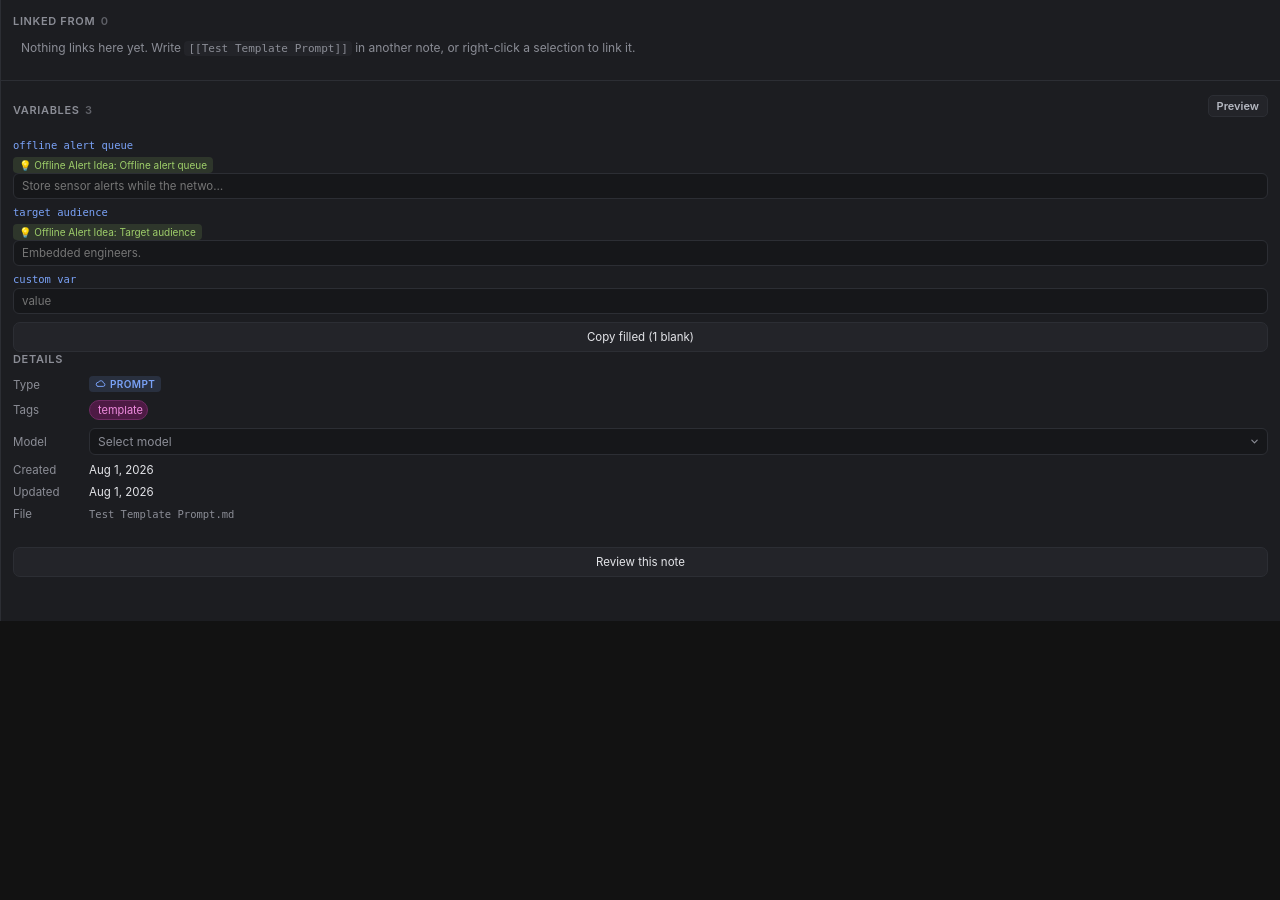
Test: RightPanel Prompt Template Variables & Idea Bubbles Autocompletion › toggles preview substitution displaying filled prompt text
What coordinates should you click on to do the following:
click the button "Preview"
I would click on:
 (1238, 106)
Its box is x1=1208 y1=95 x2=1268 y2=117.
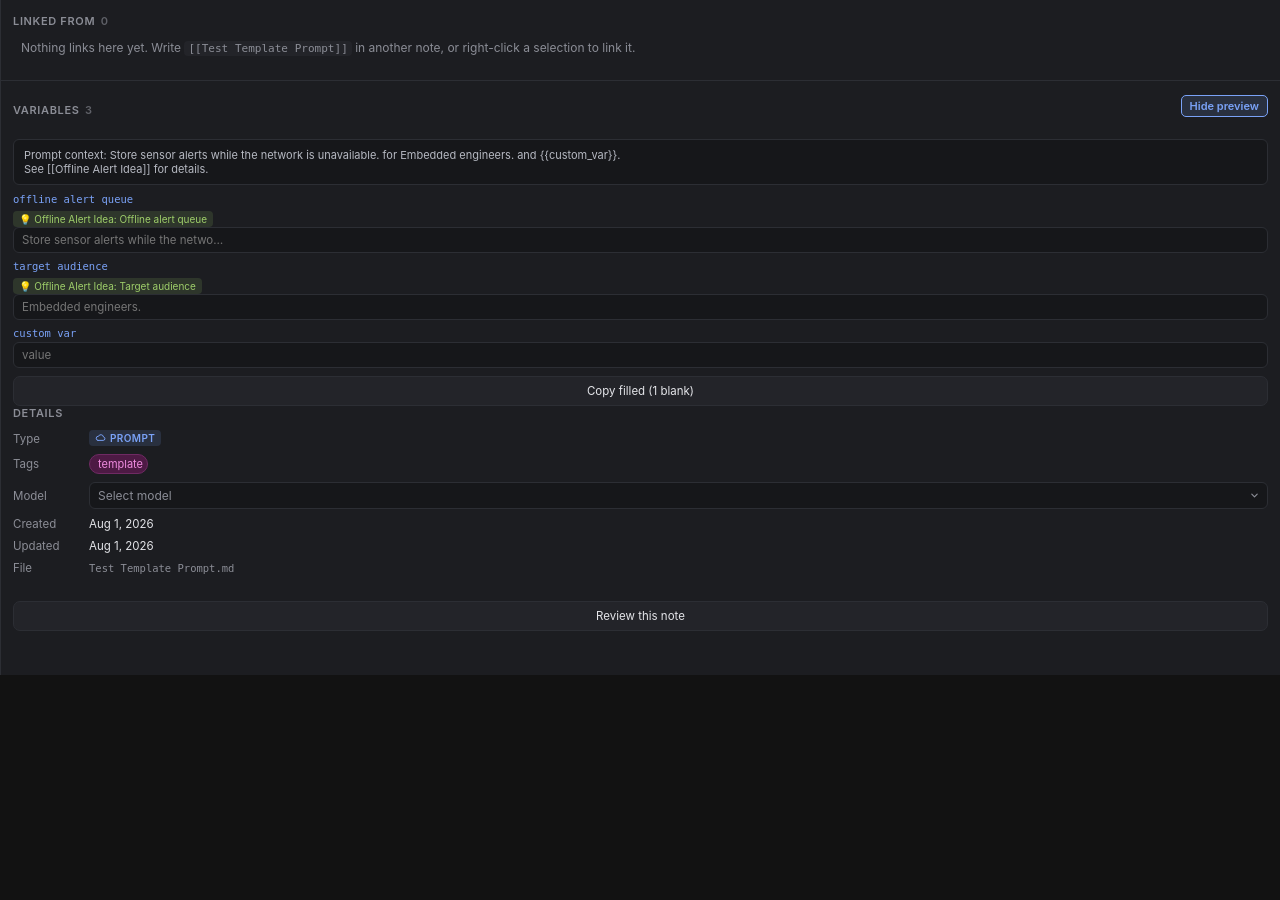
Expected: the text named "Substituted preview text" is shown, x1=13 y1=139 x2=1268 y2=185
Expected: the text named "Substituted preview text" shows "Store sensor alerts while the network is unavailable.", x1=24 y1=148 x2=620 y2=176
Expected: the text named "Substituted preview text" shows "Embedded engineers.", x1=24 y1=148 x2=620 y2=176
